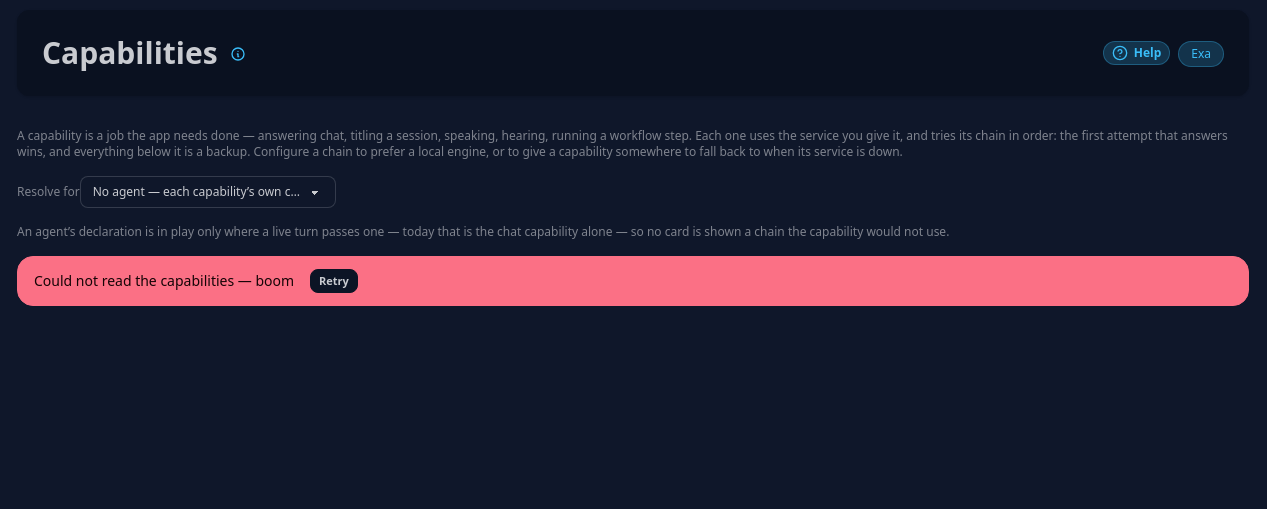
Scenario: ProviderCapabilities (the read-out) › shows the failure and offers a retry instead of rendering an empty grid
The width and height of the screenshot is (1267, 509).
Expected: the message shows "boom", [34, 271, 294, 290]
Expected: the text "Title service" is not shown
# the retry re-reads and the page recovers
Click the button "Retry" at {"x": 334, "y": 281}, box [310, 269, 358, 293]
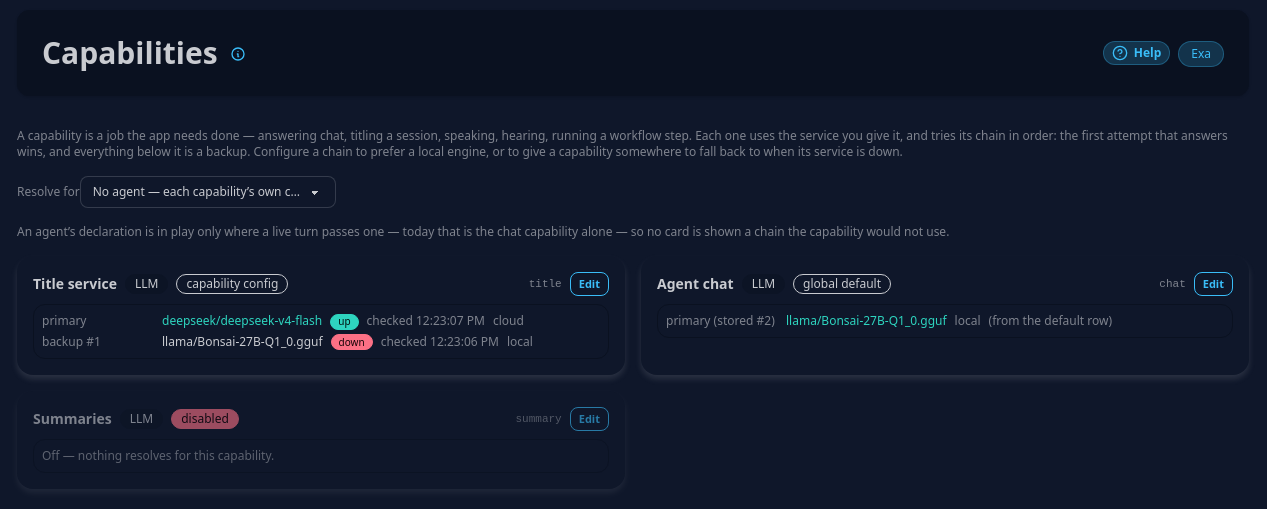
Expected: the heading "Title service" is shown, [33, 274, 117, 294]
Expected: the message "Could not read the capabilities — boom Retry" is gone
